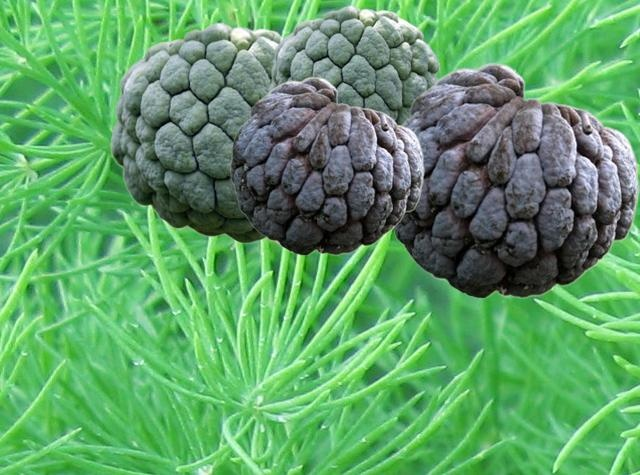atis: (391, 62, 638, 297), (110, 22, 283, 243), (230, 76, 423, 254), (268, 5, 440, 123)
